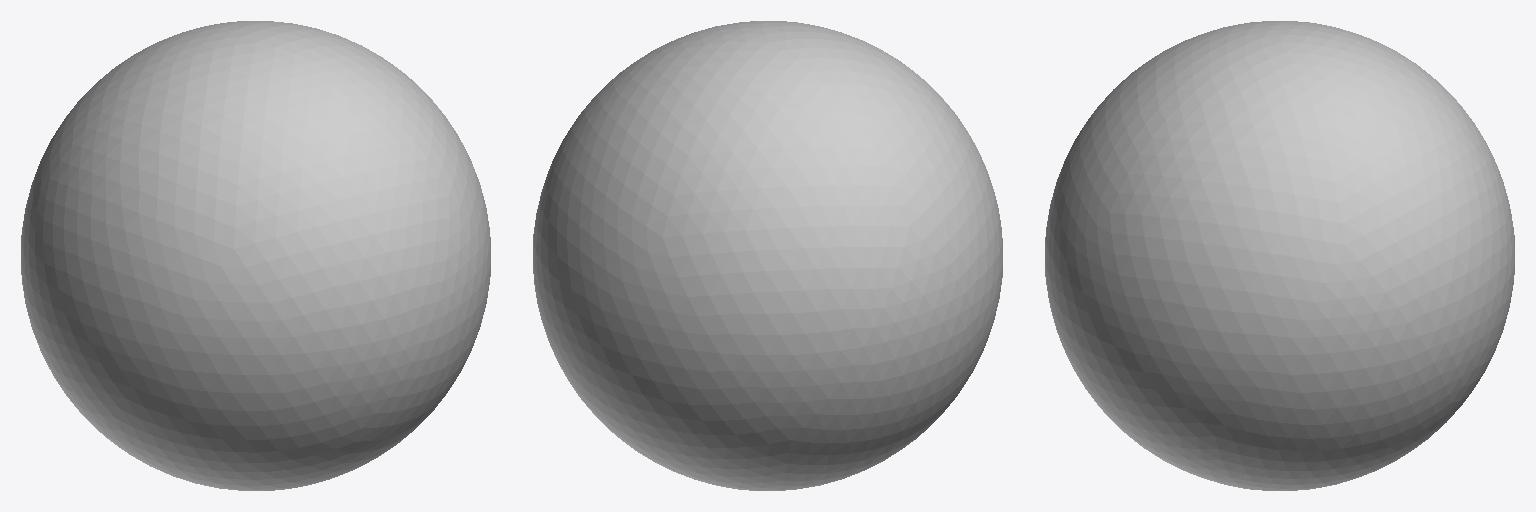
The model's file is xboxSphere.obj.
The picture shows the model from 3 angles: view 1: azimuth 30°, elevation 25°; view 2: azimuth 150°, elevation 25°; view 3: azimuth 270°, elevation 25°; orthographic projection.
Parts seen in each view (by area): view 1: xboxSphere.obj; view 2: xboxSphere.obj; view 3: xboxSphere.obj.
Boxes of the visible parts, x1,y1,x2,y2 form: xboxSphere.obj: [21, 21, 490, 490]; xboxSphere.obj: [533, 21, 1002, 490]; xboxSphere.obj: [1045, 21, 1514, 490].
Bounding box in the file's own units: 6 × 6 × 6.